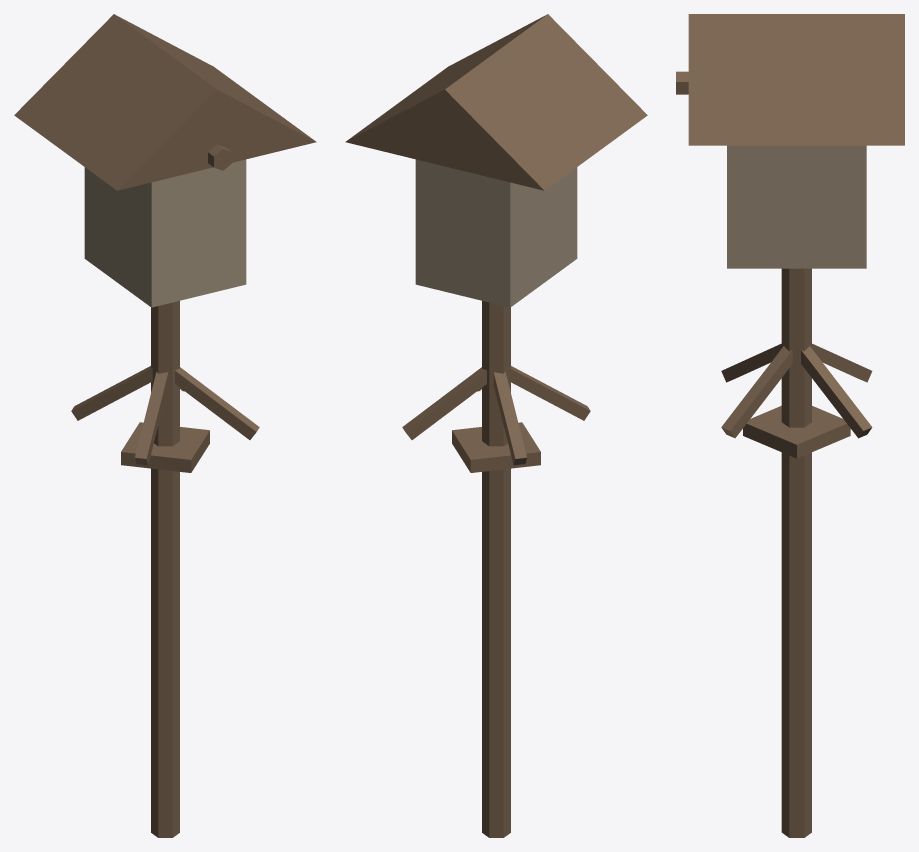
The model's file is windmill_body.glb.
The picture shows the model from 3 angles, left to right: view 1: azimuth 30°, elevation 25°; view 2: azimuth 150°, elevation 25°; view 3: azimuth 270°, elevation 25°; orthographic projection. The views are drawn at different scales.
Visible parts, largest first — view 1: windmill_body; view 2: windmill_body; view 3: windmill_body.
Boxes of the visible parts, x1,y1,x2,y2 form: windmill_body: [14, 14, 316, 837]; windmill_body: [345, 14, 647, 837]; windmill_body: [676, 14, 904, 837].
Bounding box in the file's own units: 0.19 × 0.71 × 0.18.
